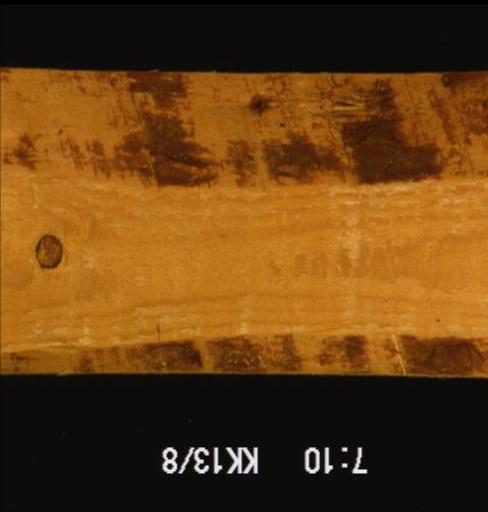dry_knot: (33, 233, 65, 270)
wave: (0, 72, 486, 187), (1, 331, 486, 373)
